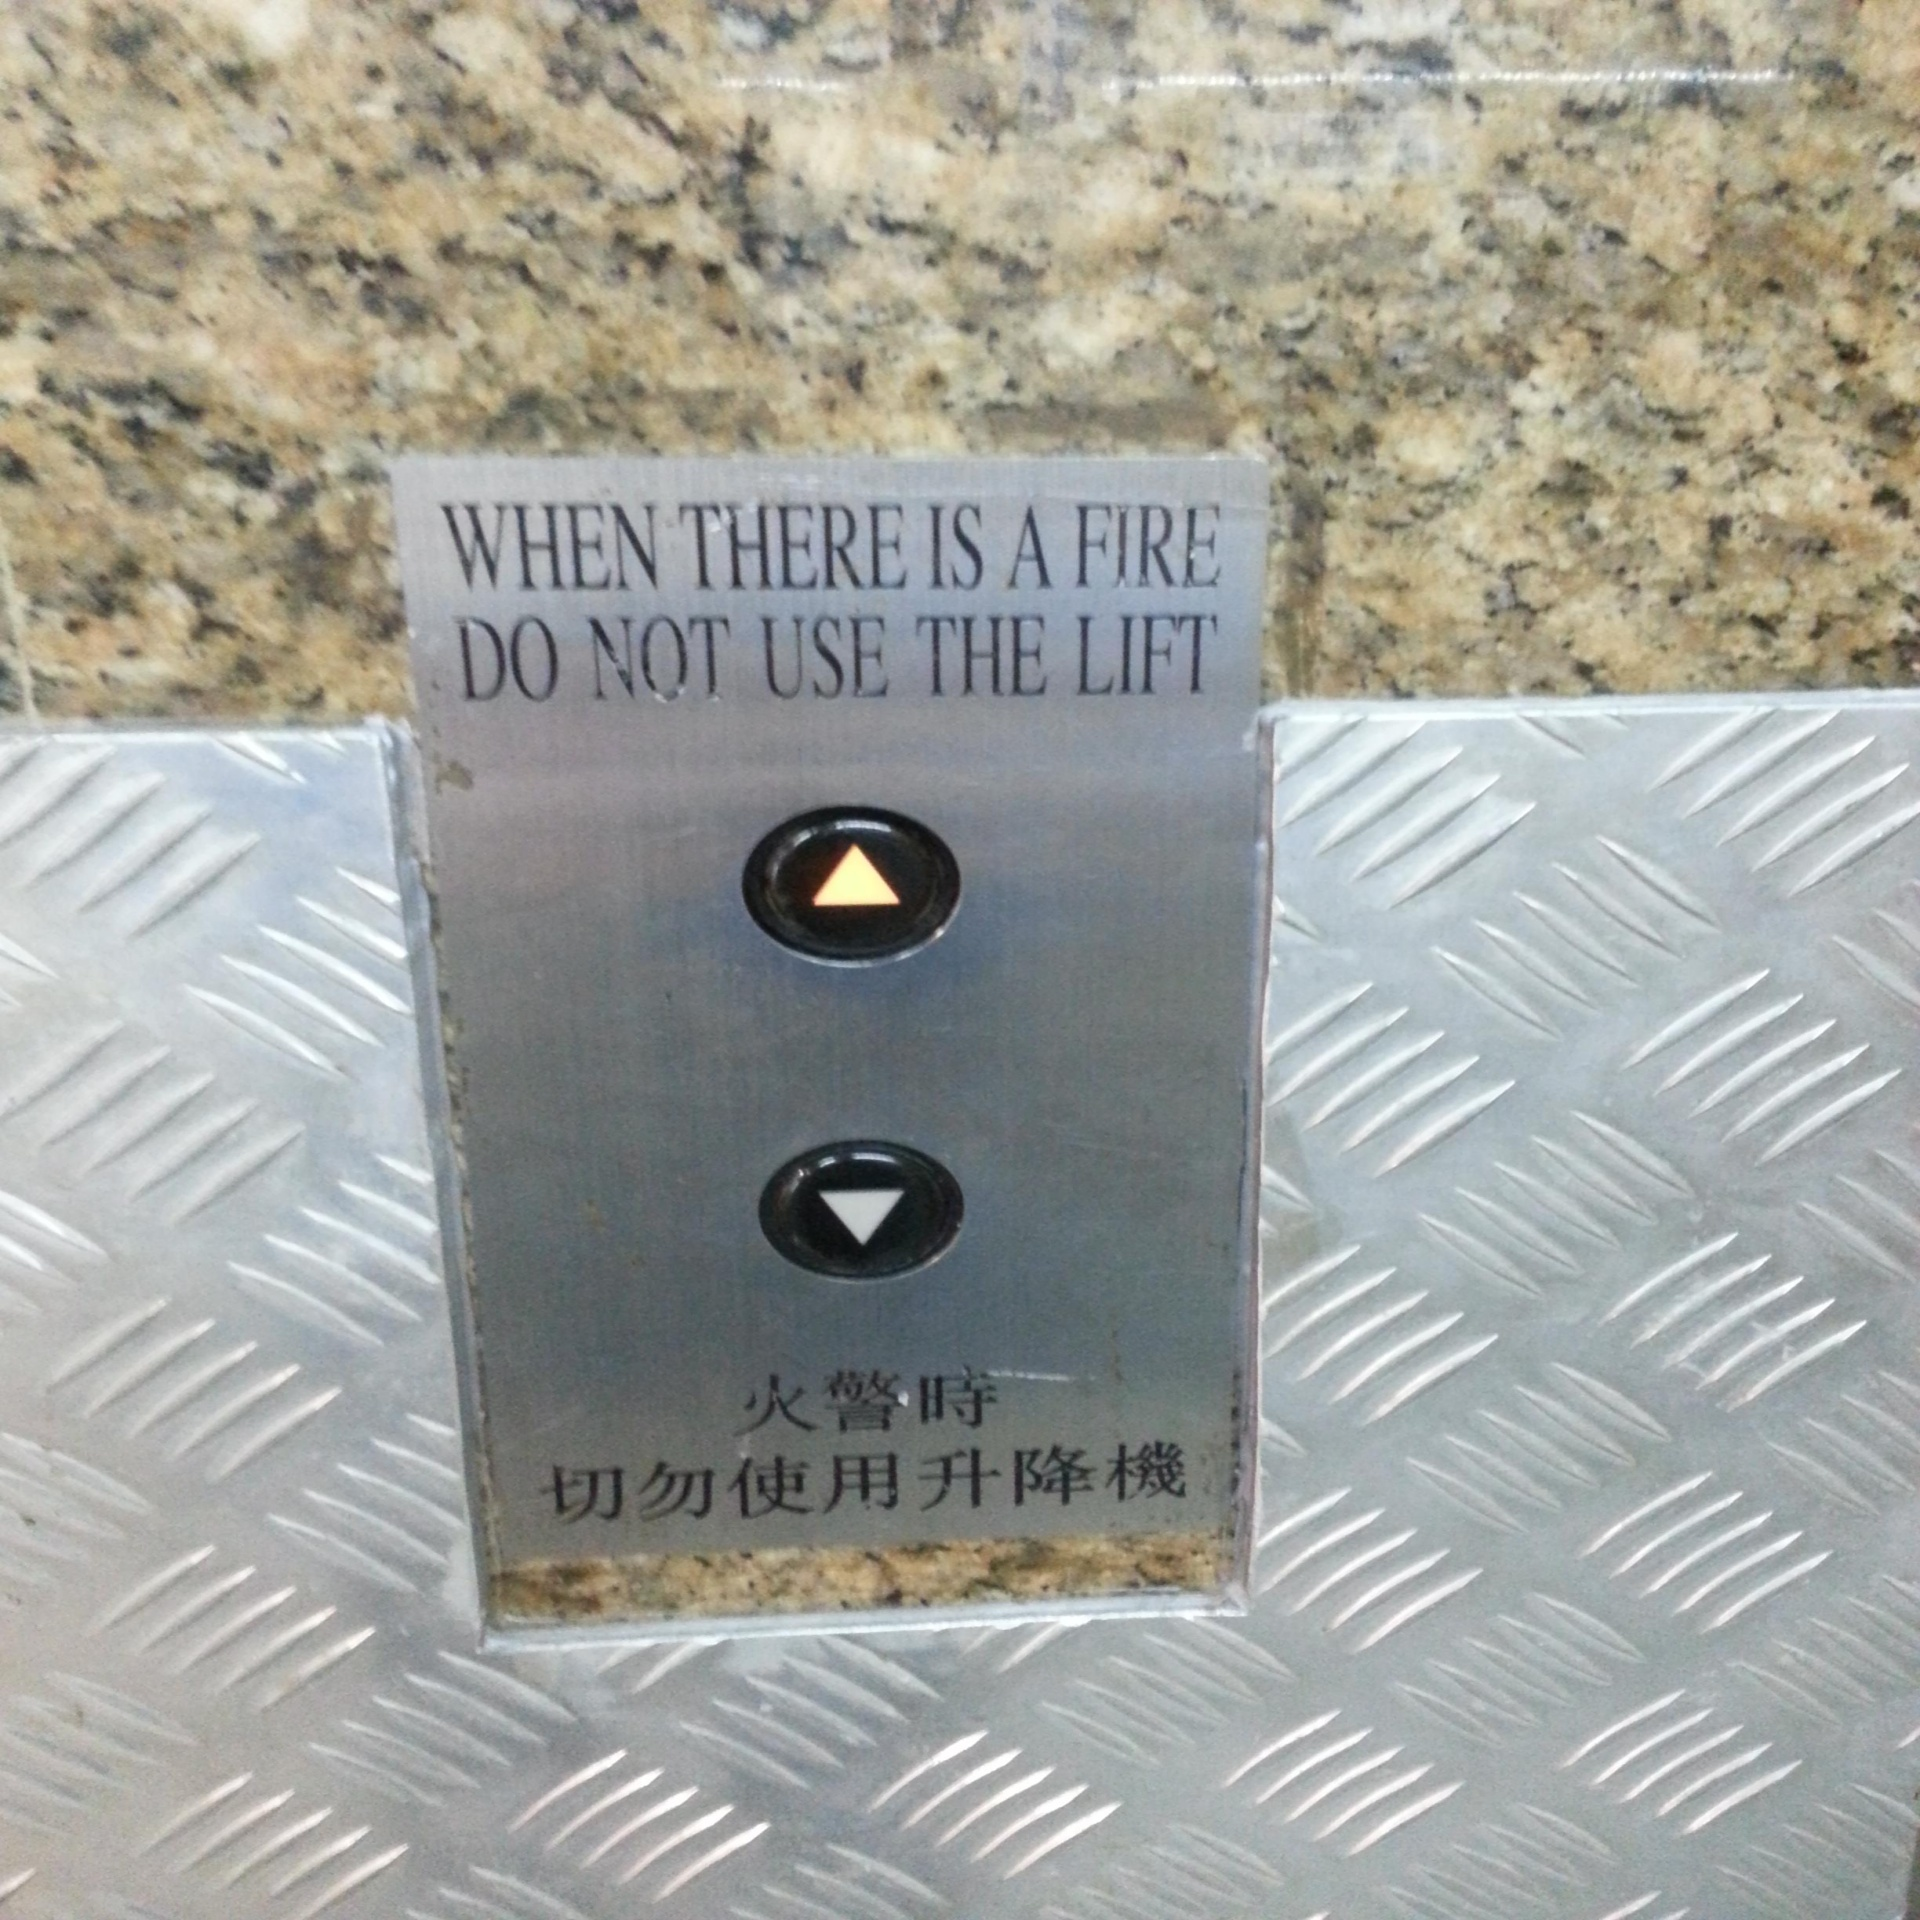down: (761, 1139, 969, 1285)
up: (737, 789, 962, 969)
